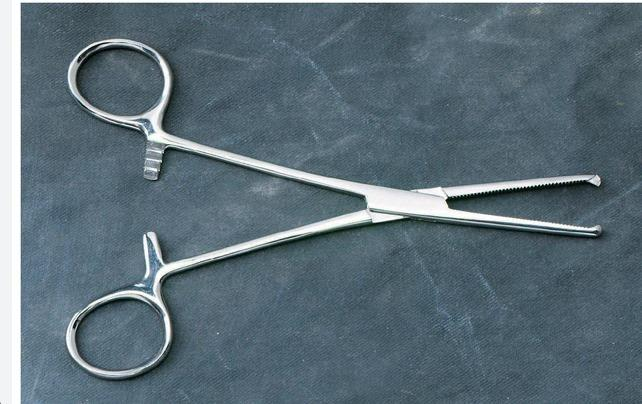Kocher Forceps: (58, 30, 608, 381)
